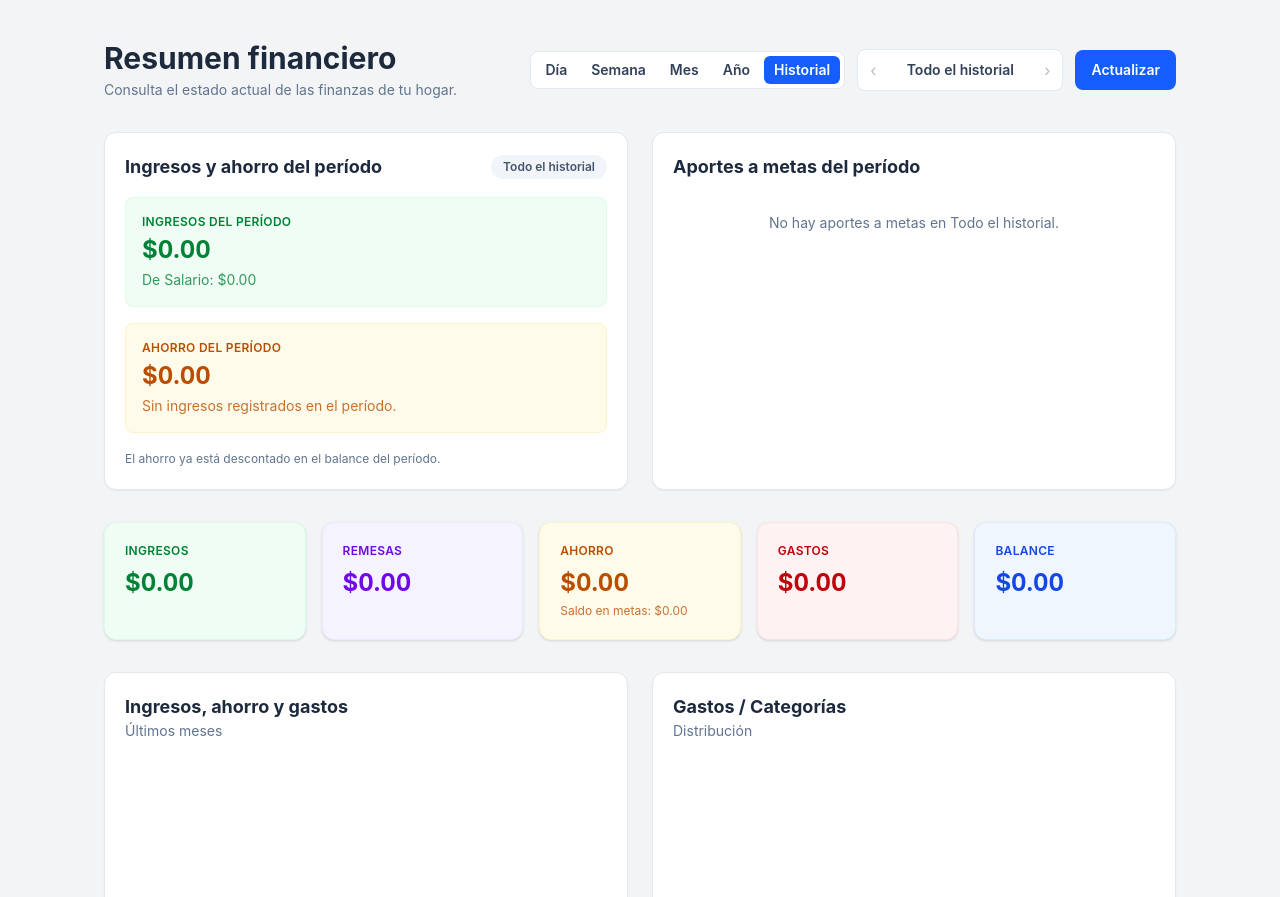
Test case: Dashboard - visualización por períodos › con tieneDatos: false muestra el mensaje de período vacío y no montos en $0.00
Expected: the heading "Resumen financiero" is shown, [104,40,396,76]
Click the button "Día" at (556, 70), box [535,56,577,84]
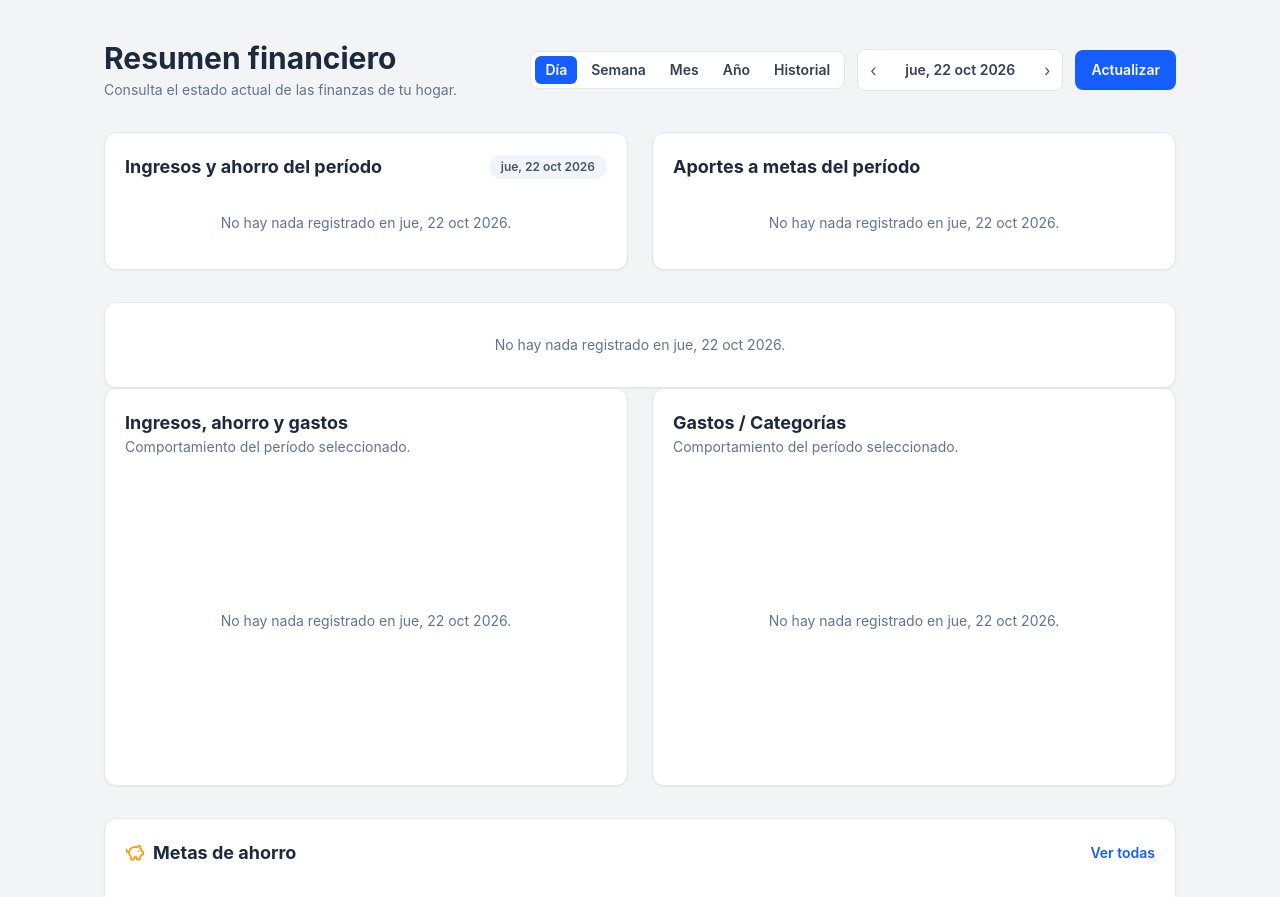
Result: the text "$0.00" is gone
